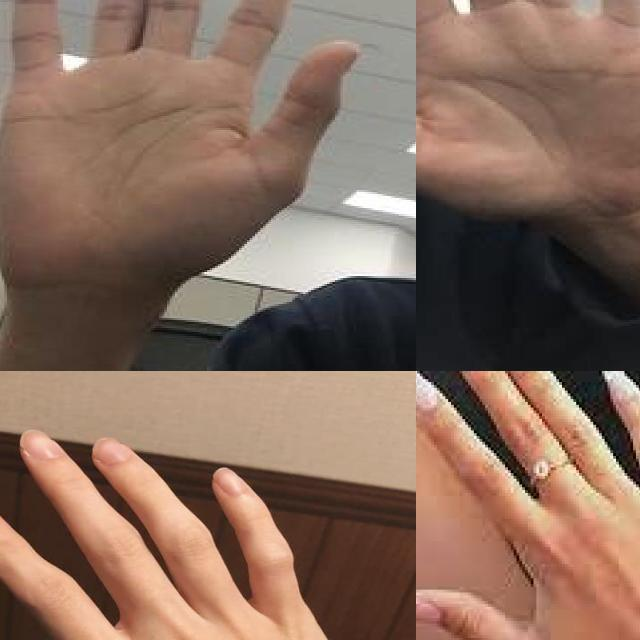no-gloves: (0, 0, 356, 282), (0, 427, 416, 640), (416, 371, 640, 640), (416, 0, 640, 220)
